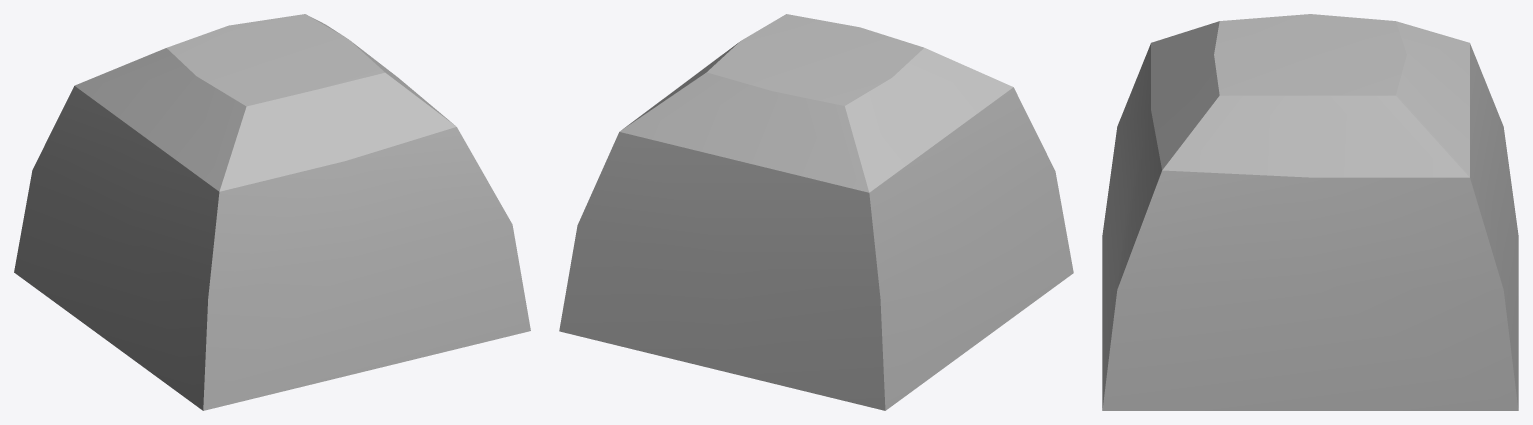
File: Snow.fbx
3 views of the same model, side by side, from view 1: azimuth 30°, elevation 25°; view 2: azimuth 150°, elevation 25°; view 3: azimuth 270°, elevation 25° (orthographic). The views are drawn at different scales.
Visible parts, largest first — view 1: Snow; view 2: Snow; view 3: Snow.
Part boxes in pixels (x1,y1,x2,y2): Snow: (14, 14, 530, 410); Snow: (559, 14, 1073, 410); Snow: (1102, 14, 1518, 410).
Bounding box in the file's own units: 0.711 × 0.5059 × 0.711.
1 material, 1 textured.
